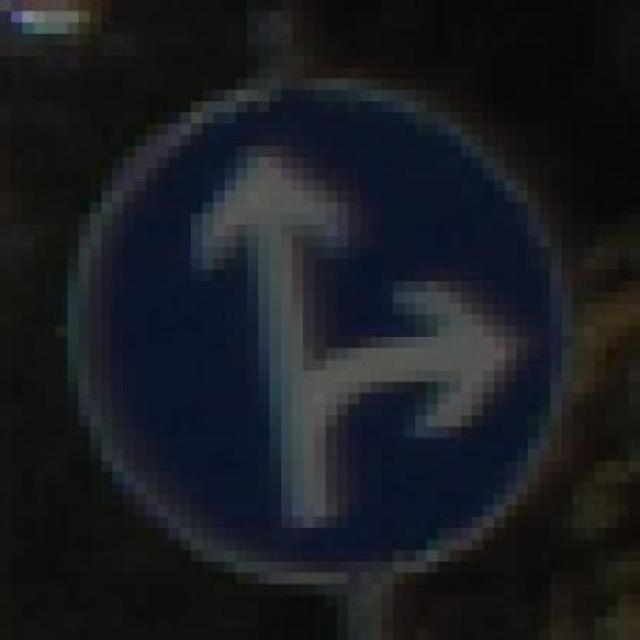Go Straight or Turn Right: (55, 45, 596, 629)
